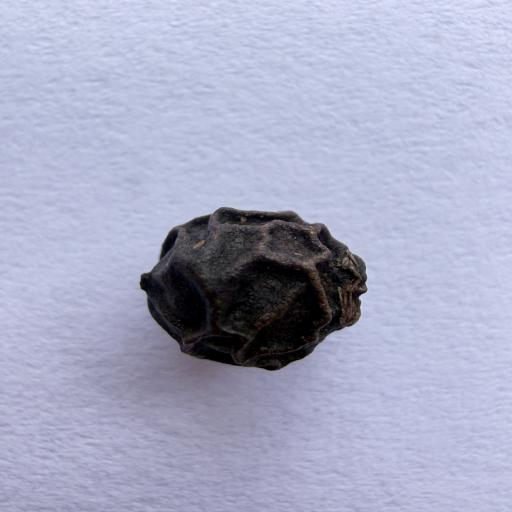Black_pepper: (100, 159, 456, 401)
